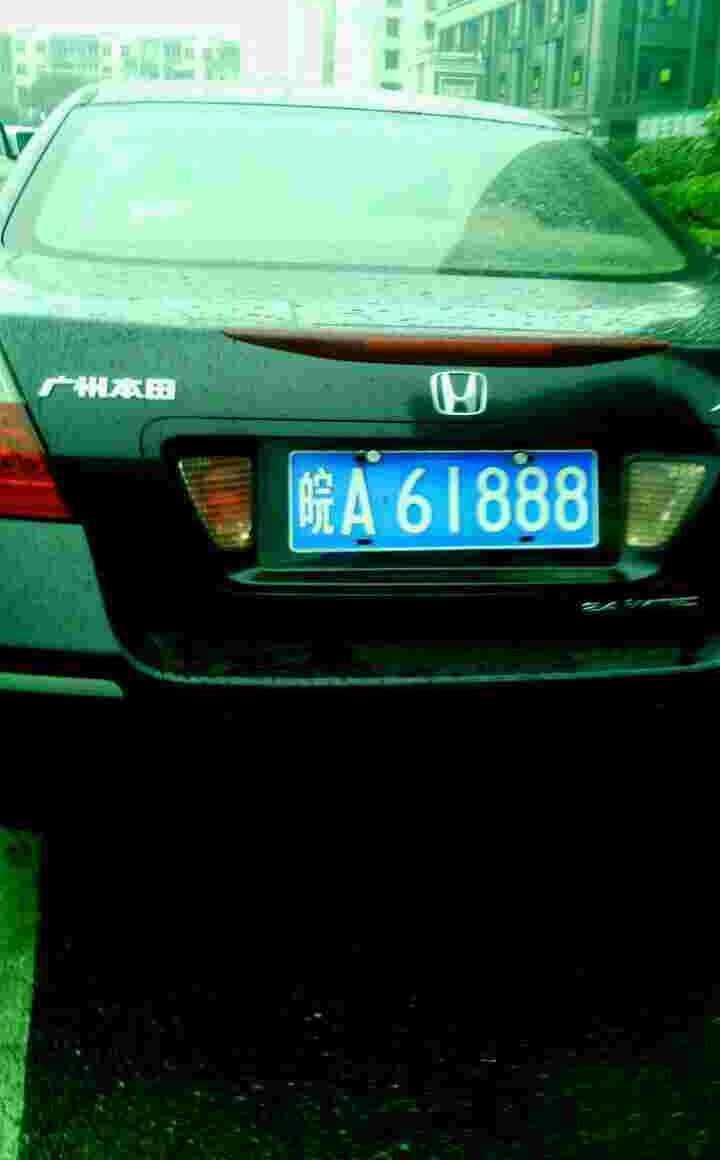license_plate: (289, 445, 615, 549)
